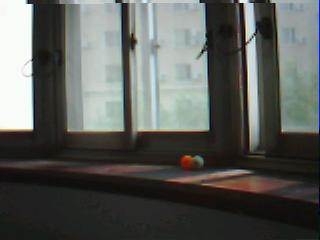oball: (180, 156, 191, 166)
